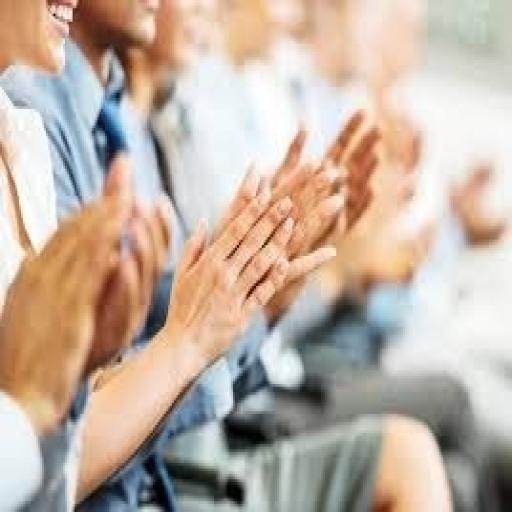clapping: (0, 33, 431, 497)
